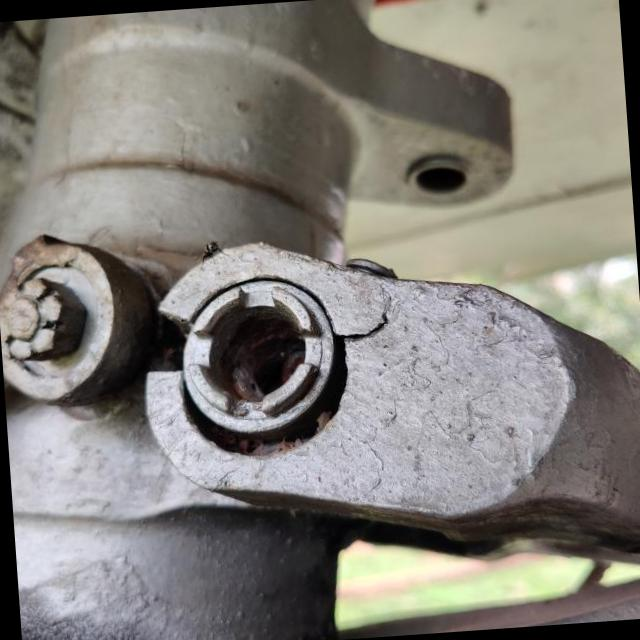Crack: (331, 294, 395, 348)
